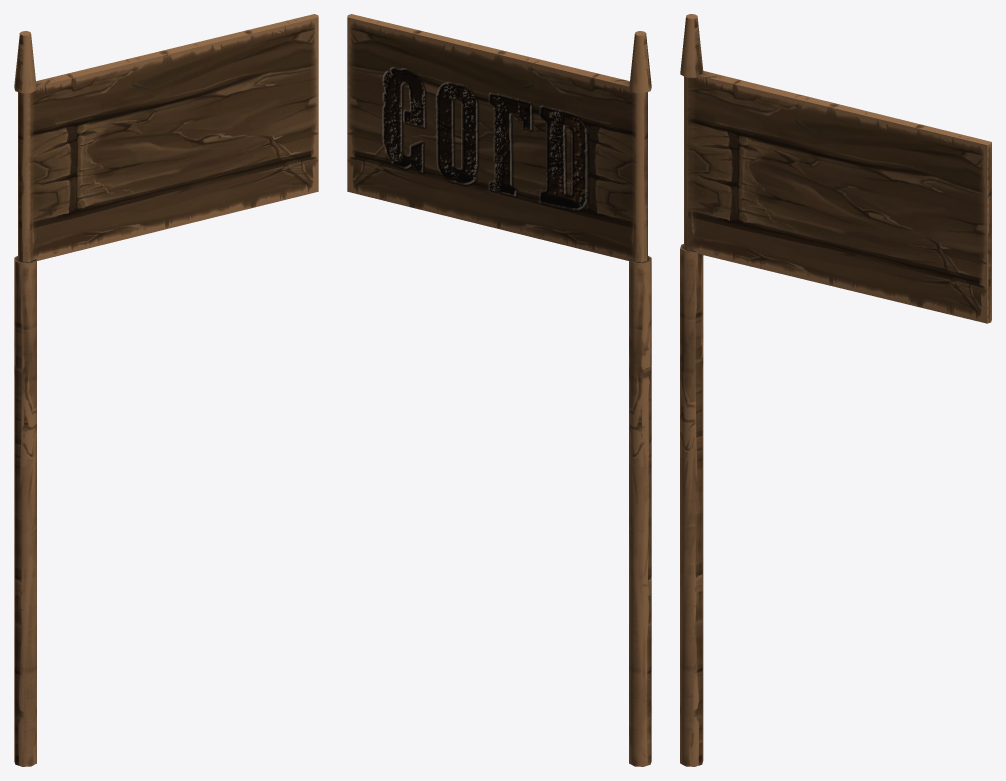
File: Flag.fbx
The picture shows the model from 3 angles, left to right: view 1: azimuth 30°, elevation 25°; view 2: azimuth 150°, elevation 25°; view 3: azimuth 330°, elevation 25°; orthographic projection. The views are drawn at different scales.
Visible parts, largest first — view 1: polymsh_detached, cylinder; view 2: polymsh_detached, cylinder; view 3: polymsh_detached, cylinder.
Part boxes in pixels (x1,y1,x2,y2): polymsh_detached: (18, 14, 318, 262); cylinder: (14, 31, 36, 766); polymsh_detached: (347, 14, 647, 262); cylinder: (629, 31, 651, 766); polymsh_detached: (684, 71, 991, 323); cylinder: (680, 14, 703, 766).
Bounding box in the file's own units: 9.13 × 21.01 × 0.6139.
